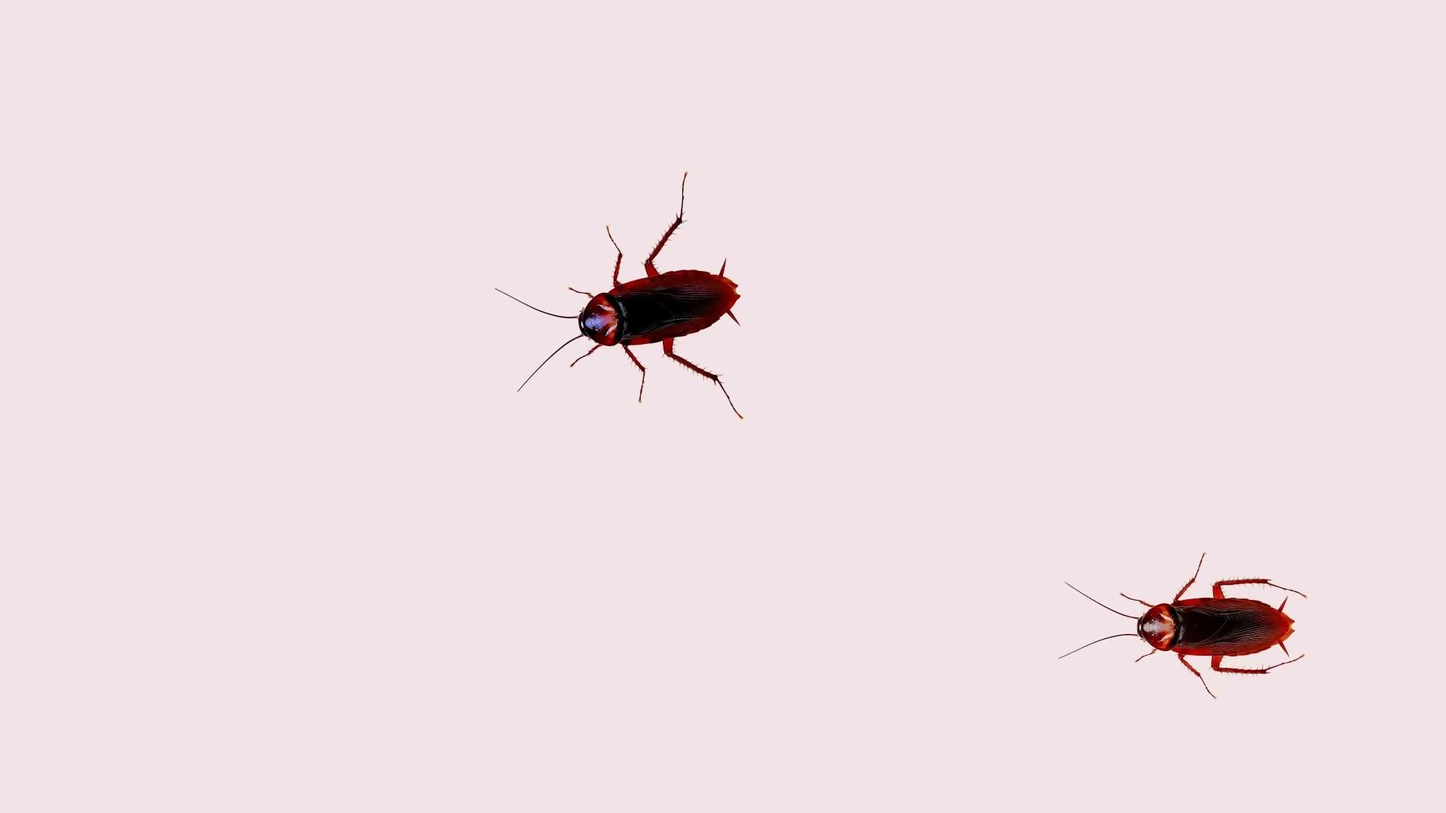cockroach: (493, 189, 754, 422), (1035, 548, 1316, 686)
